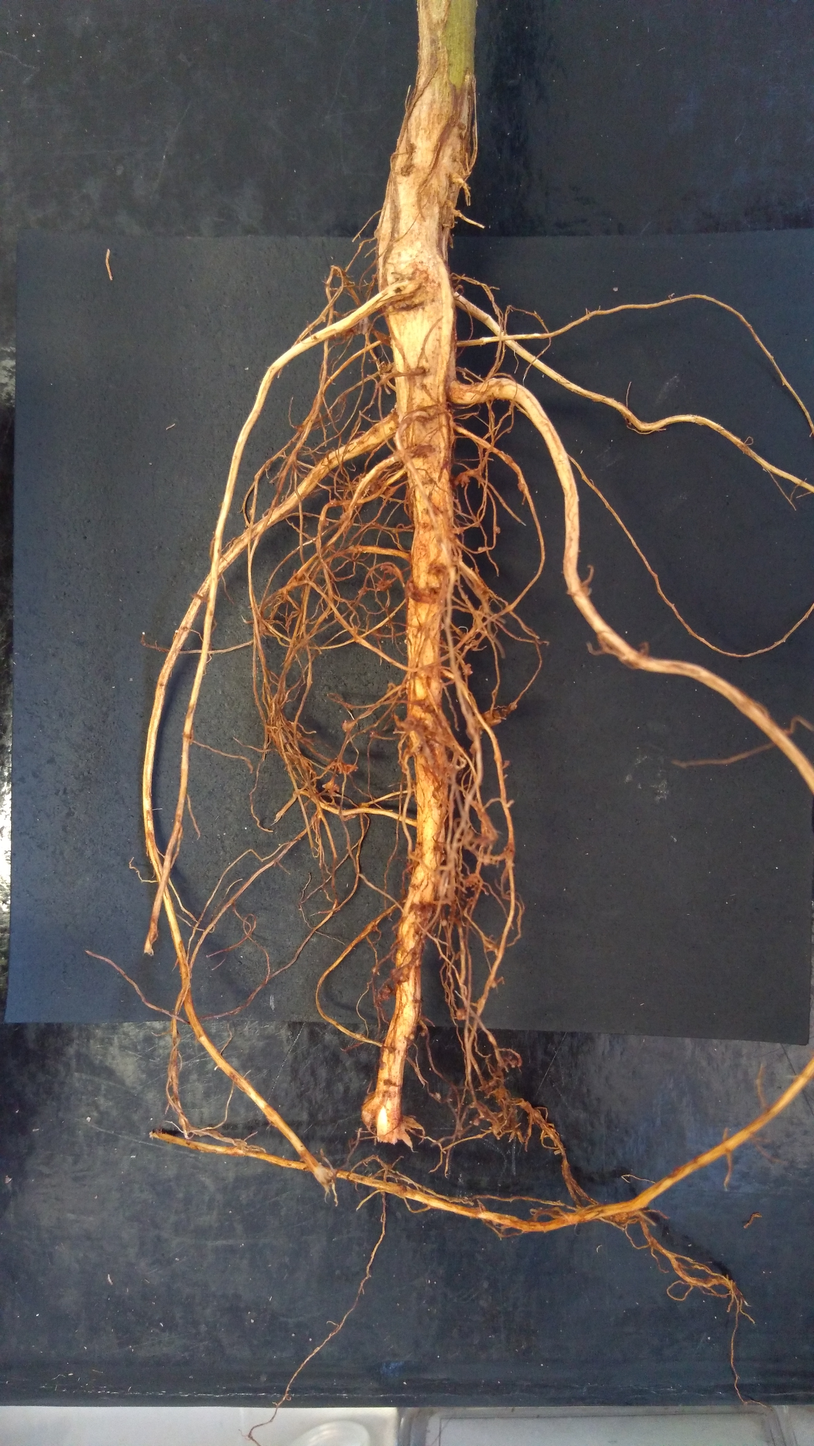nodule: (360, 1090, 380, 1127), (343, 307, 369, 335), (491, 1109, 518, 1129), (474, 711, 502, 728), (369, 478, 386, 499), (390, 966, 409, 982), (463, 872, 479, 888), (291, 568, 305, 586), (338, 763, 358, 775), (321, 781, 340, 793), (258, 618, 273, 633), (330, 756, 344, 771), (376, 579, 392, 592), (380, 984, 392, 1001), (378, 361, 392, 375), (379, 564, 395, 575), (494, 1084, 506, 1098), (455, 1008, 467, 1021), (405, 581, 414, 598), (462, 663, 473, 676), (341, 719, 352, 732), (460, 474, 470, 488), (468, 1117, 481, 1127), (348, 545, 362, 554), (357, 587, 368, 596), (469, 743, 477, 755), (508, 701, 518, 710), (510, 1059, 519, 1068), (517, 482, 525, 492), (440, 918, 448, 927), (488, 1078, 497, 1086), (439, 620, 445, 631), (495, 525, 501, 535), (491, 979, 497, 988), (409, 1032, 415, 1041), (323, 518, 329, 527), (400, 888, 406, 896), (435, 1092, 441, 1100), (476, 546, 483, 551), (174, 629, 178, 633)
